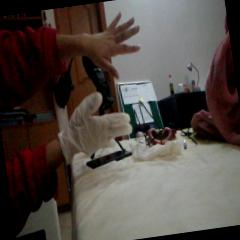gloved: (54, 86, 134, 158)
not-gloved: (70, 9, 146, 84)
